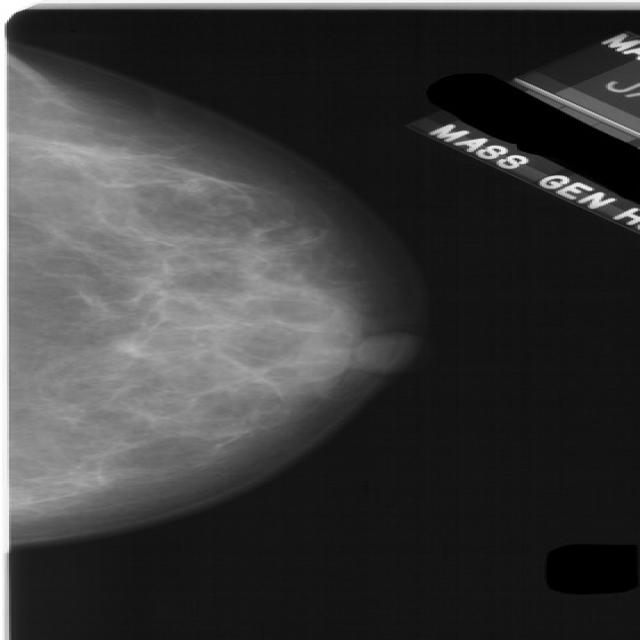tumour: (105, 337, 134, 352)
